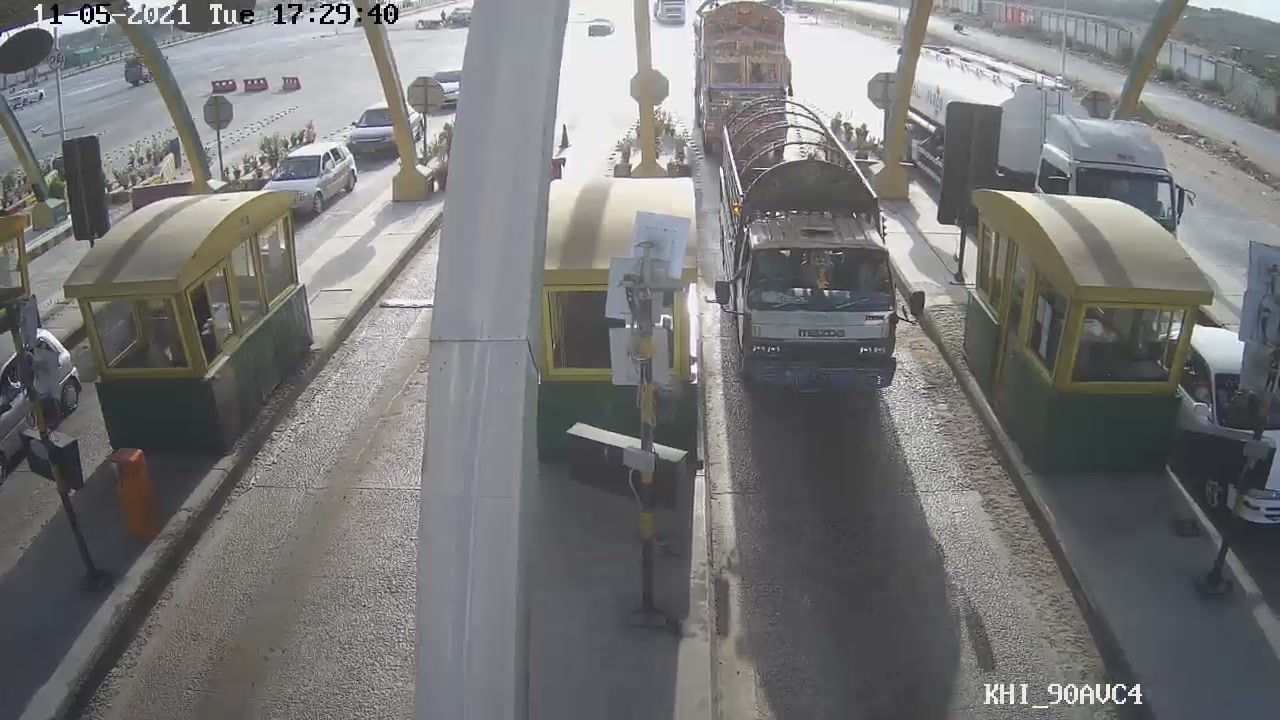F5: (704, 106, 942, 396)
